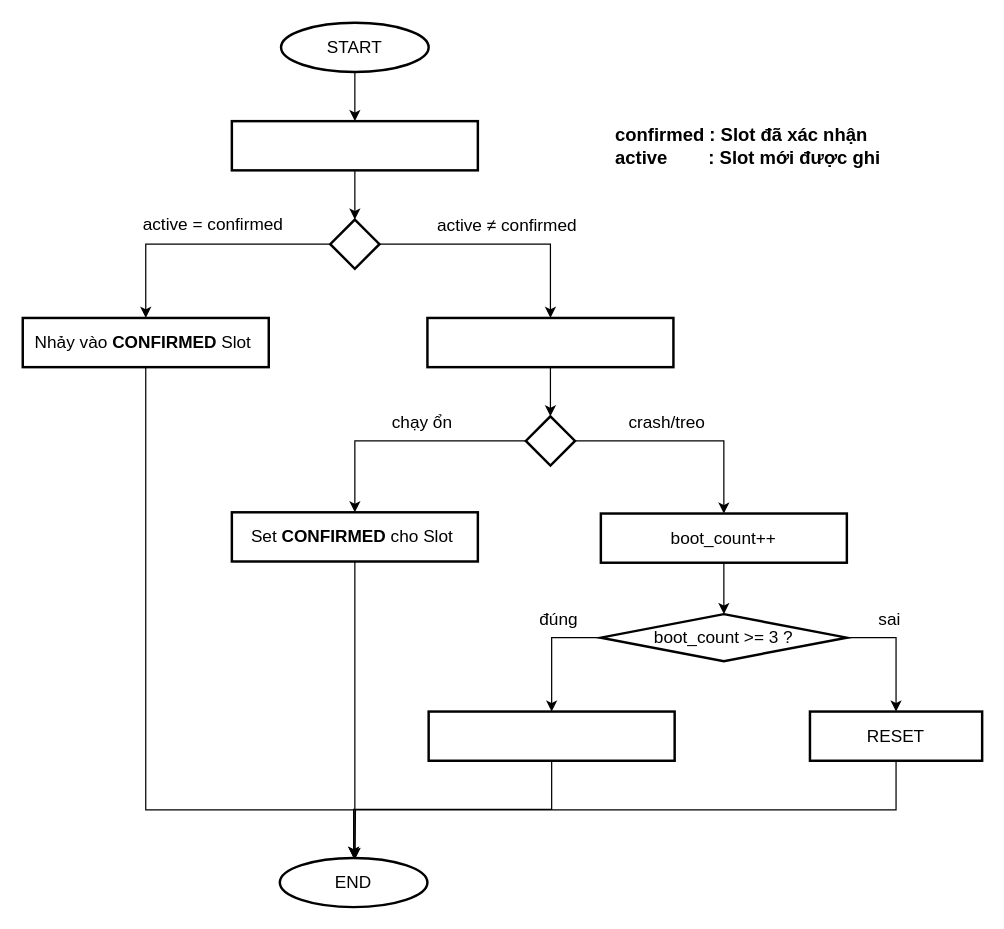
This 1004x929 diagram has some shape labels left out. The centre of each missing label's shape, as x and y in pixels:
Nhảy vào ACTIVE Slot: pixel 550 342
Rollback về CONFIRMED Slot: pixel 551 735
Đọc metadata: pixel 354 145
